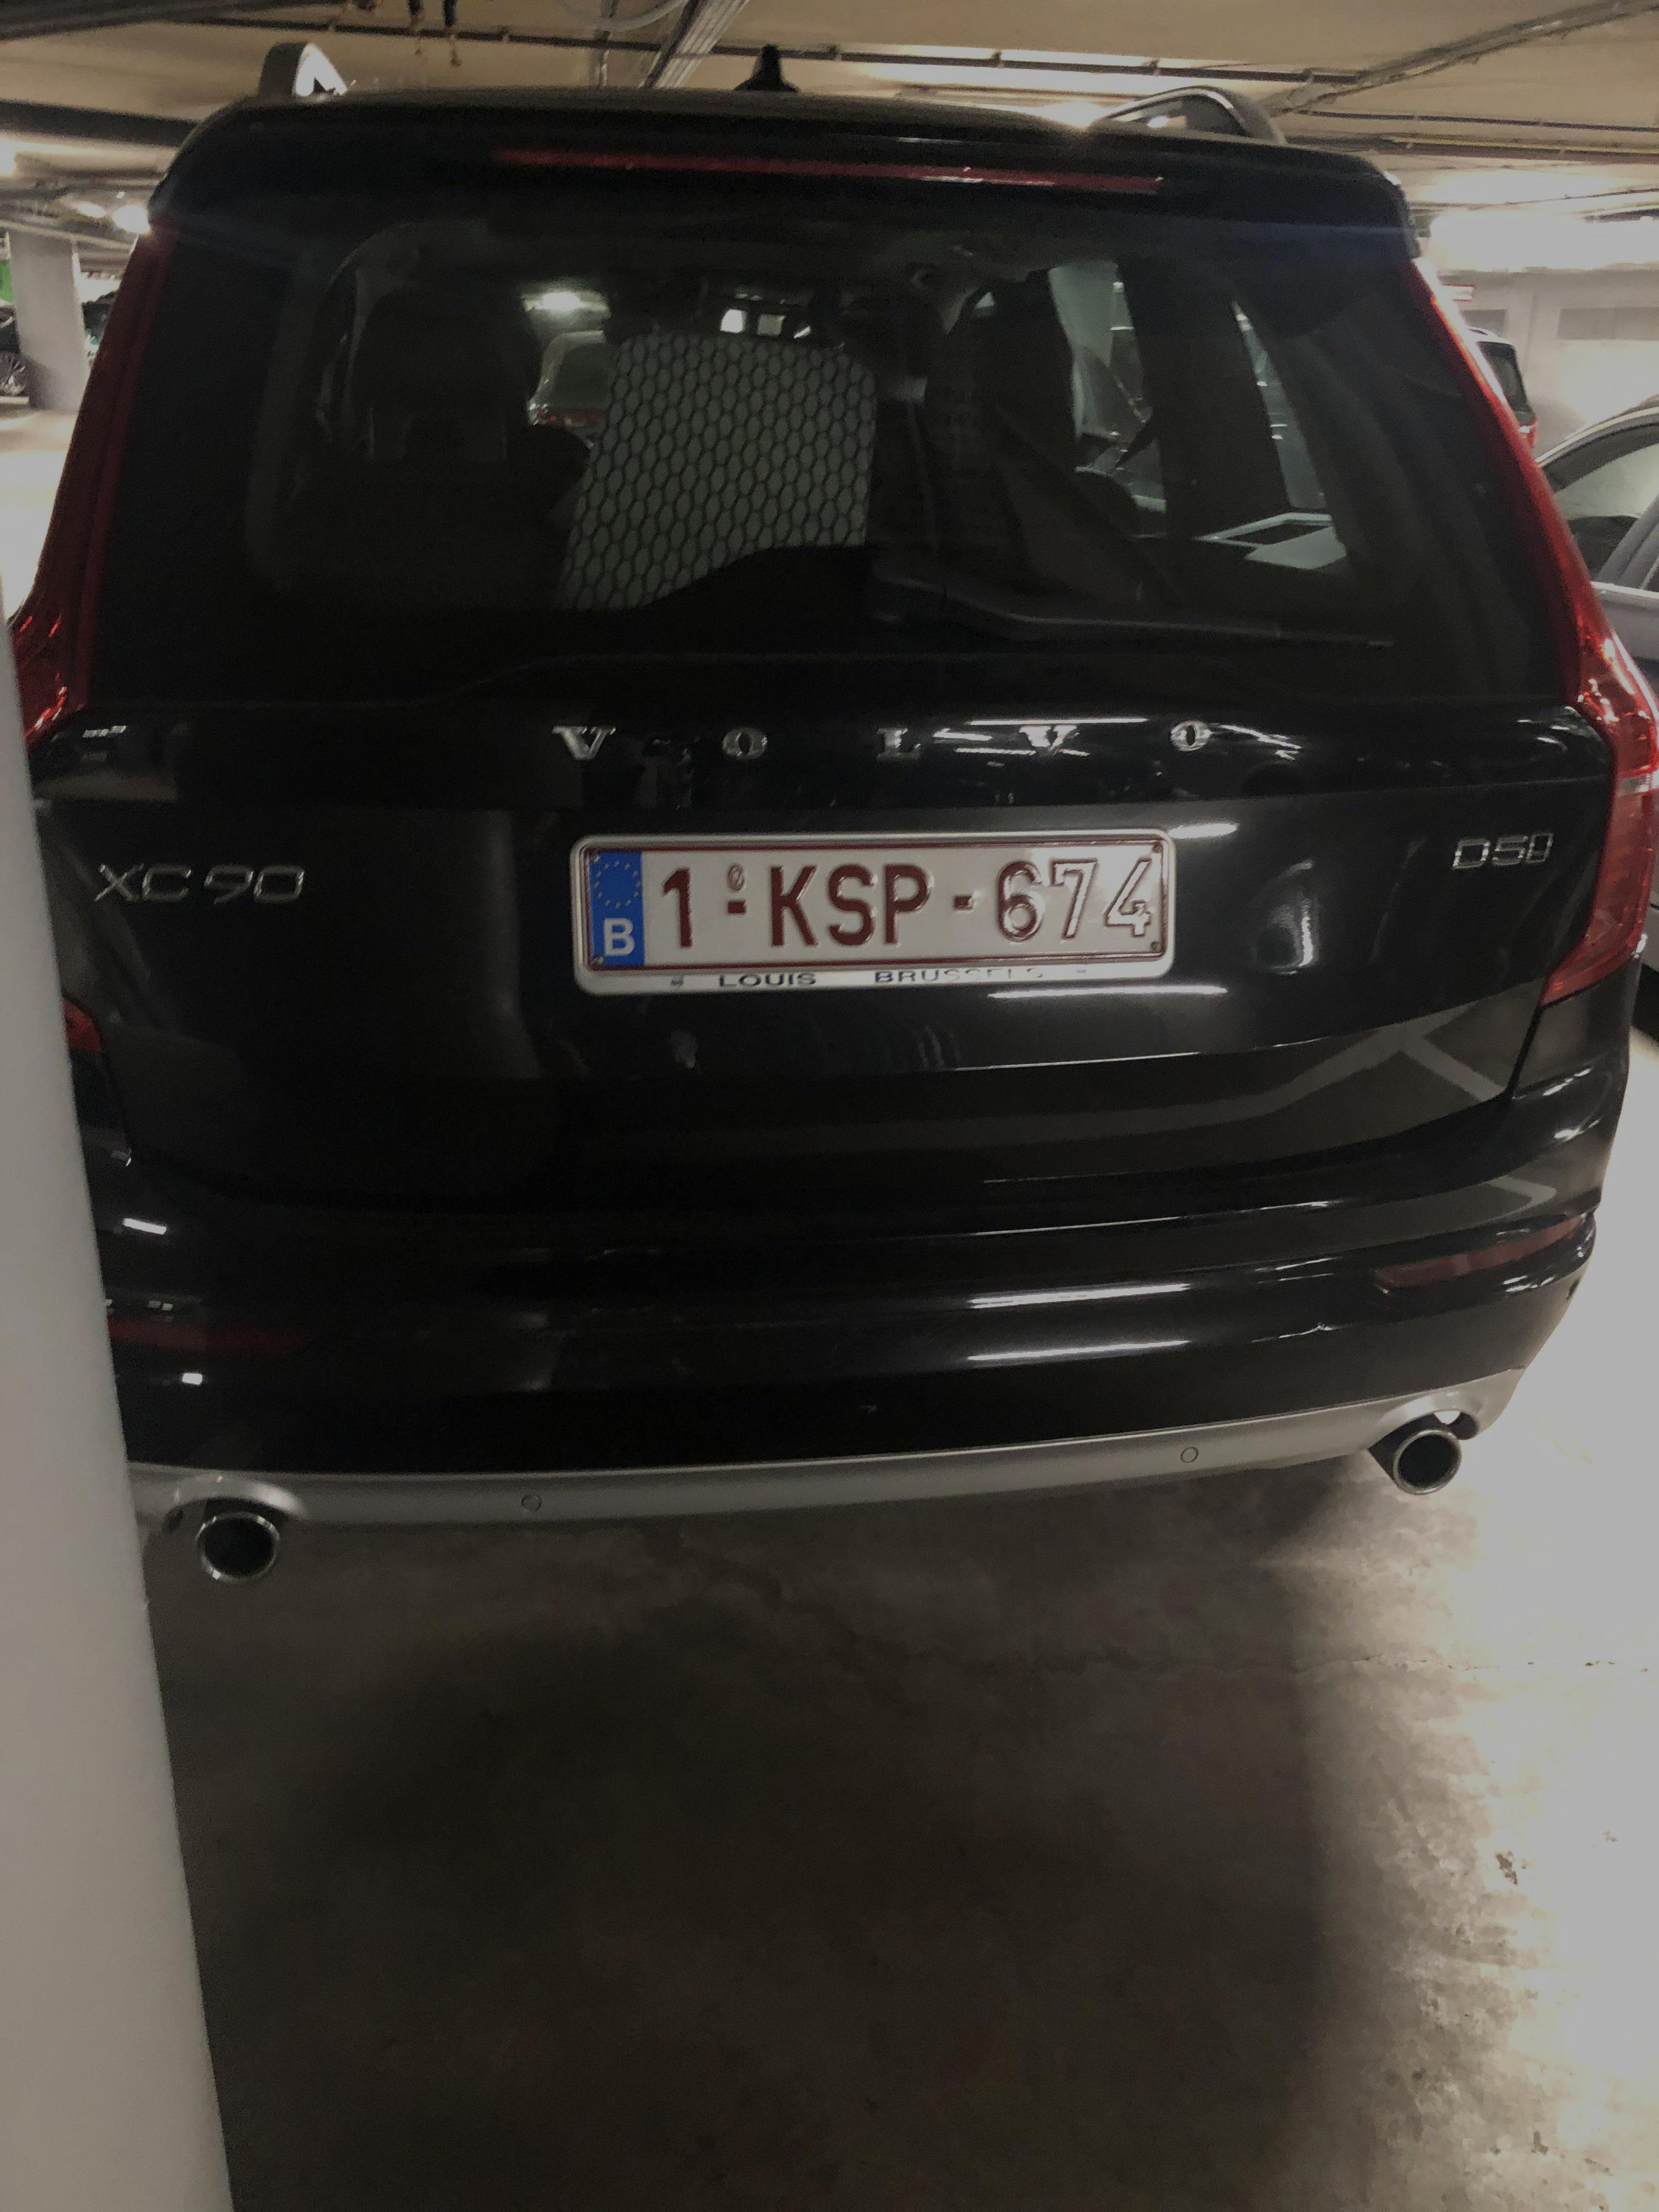plate: (542, 819, 1210, 977)
